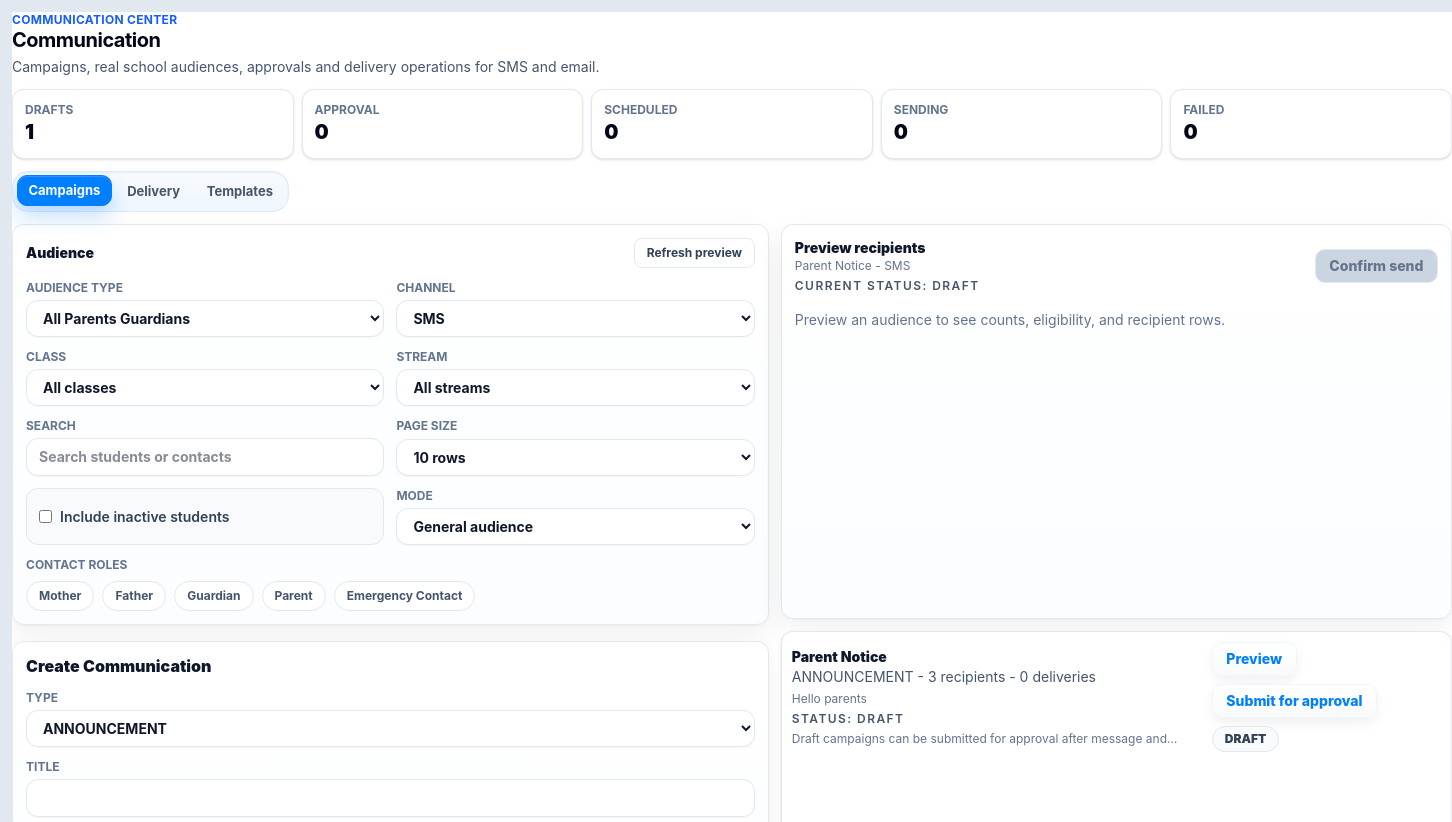
Test case: CommunicationsPage › prevents duplicate submit-for-approval actions while submission is in flight
Click the button "Submit for approval".
click(1294, 700)  # box [1212,684,1377,718]
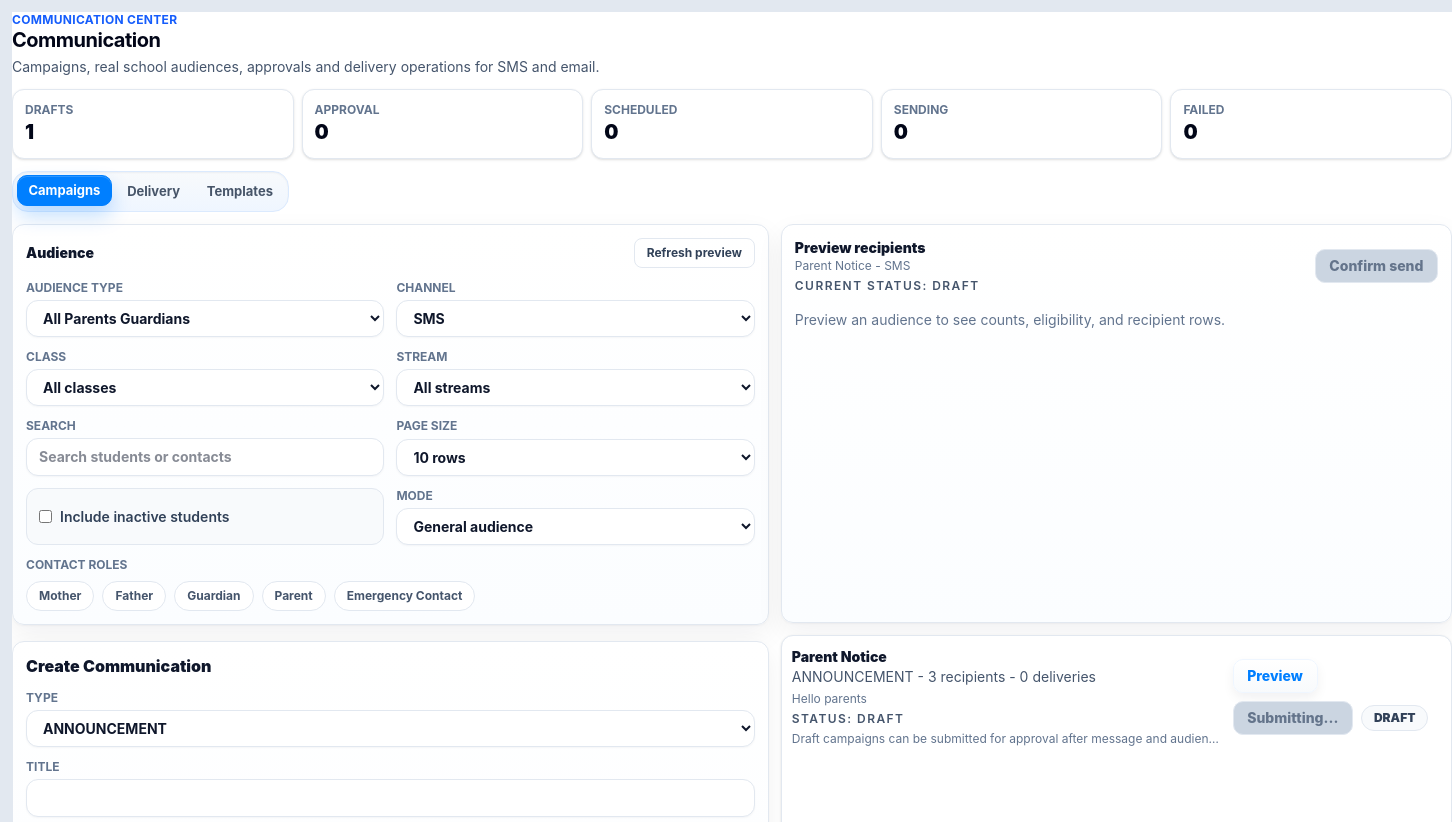
Expected: the button "Submitting..." is disabled, [1233,700,1353,734]
